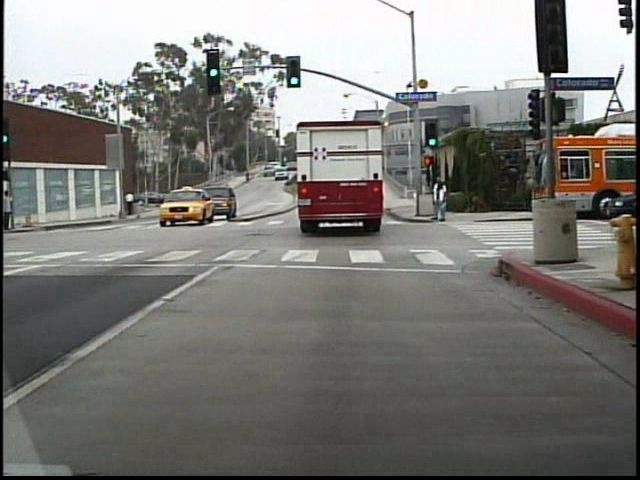person: (427, 174, 452, 225), (123, 187, 140, 220), (6, 189, 18, 233)
